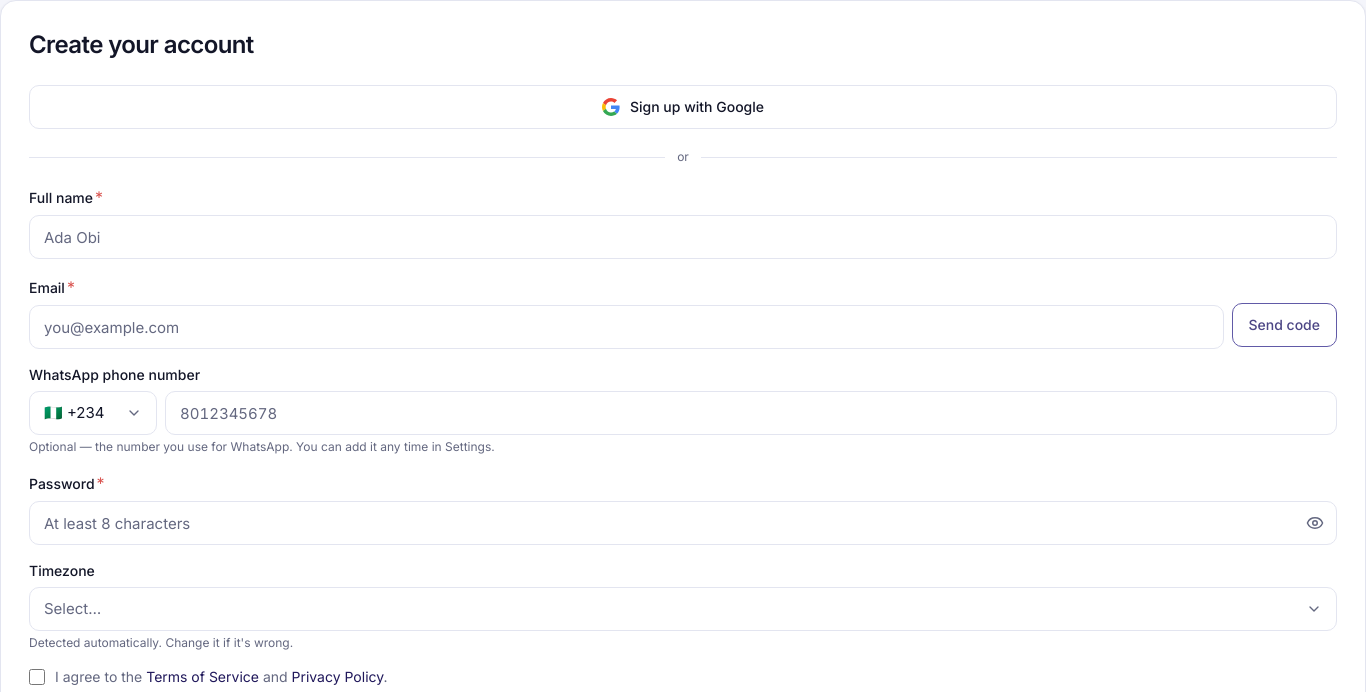
Scenario: Register › a successful verify clears the earlier wrong-code error
The width and height of the screenshot is (1366, 692).
Type "qa@example.com" into the field labelled "Email" at {"x": 626, "y": 327}, box [29,305,1224,349]
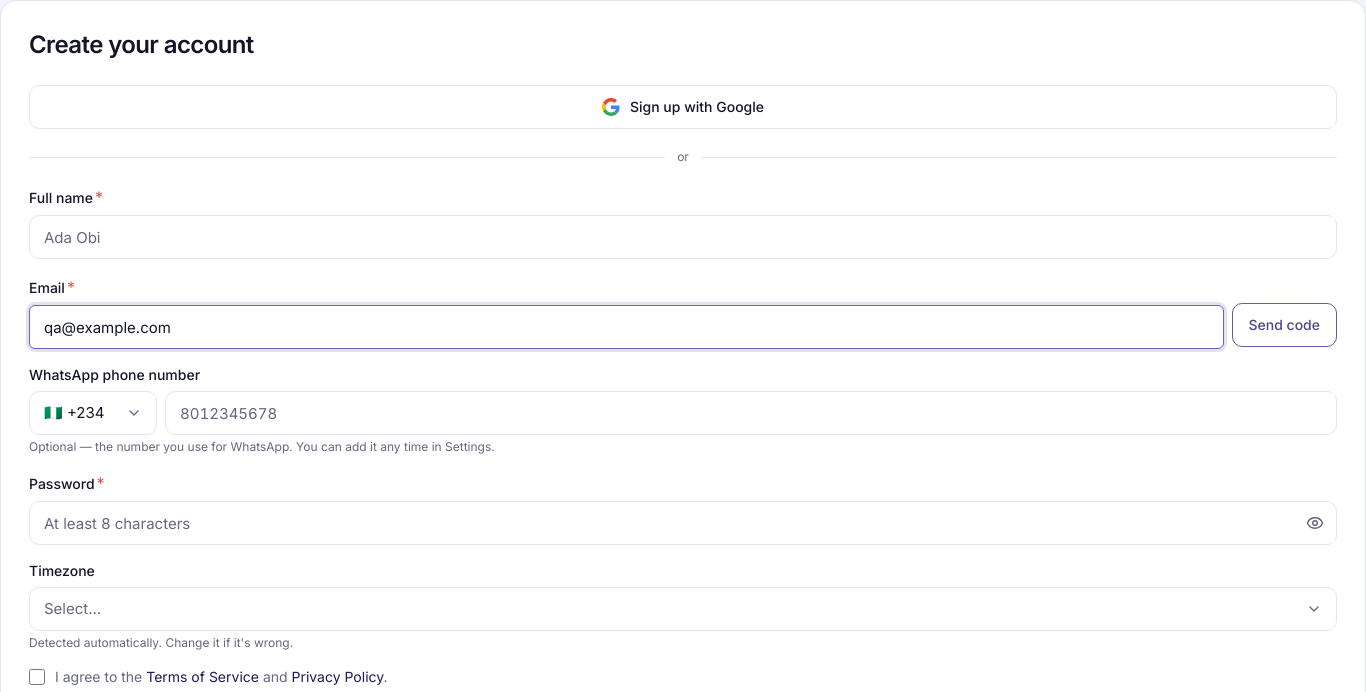
Click the button "Send code" at {"x": 1284, "y": 325}, box [1232,303,1337,347]
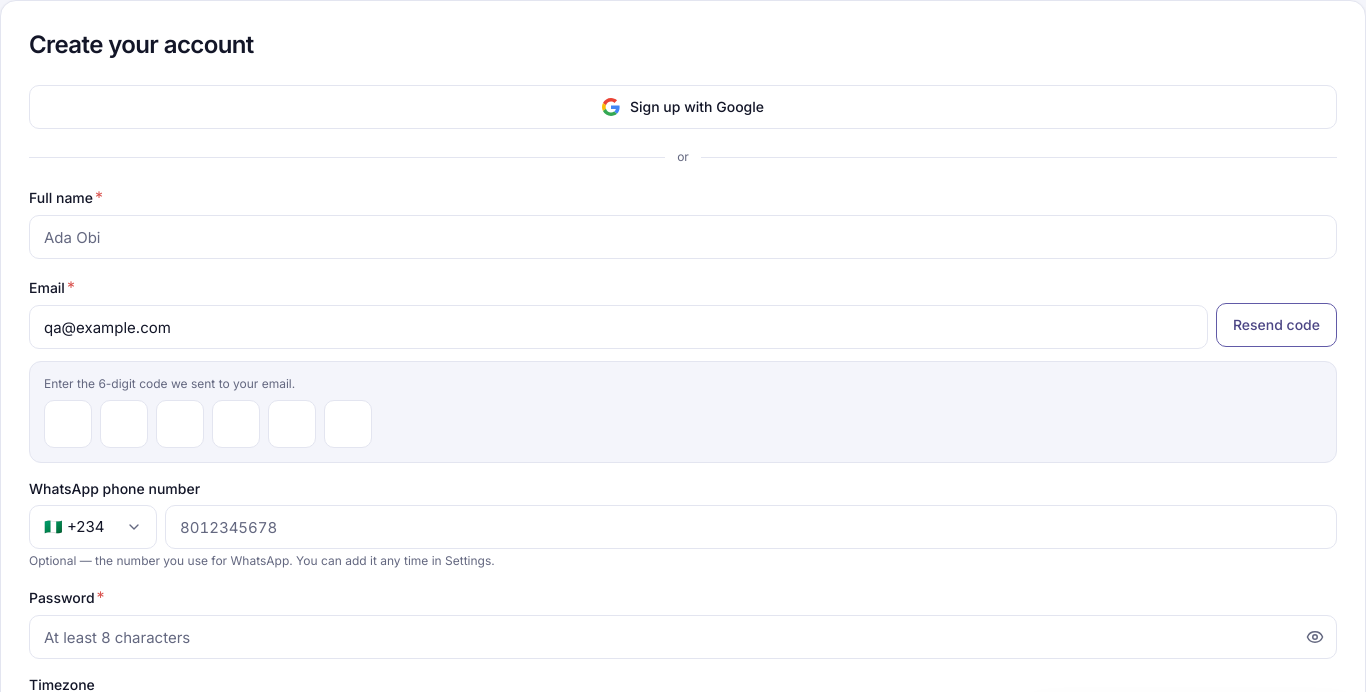
Click the field named "Email code digit 1" at {"x": 68, "y": 424}, box [44,400,92,448]
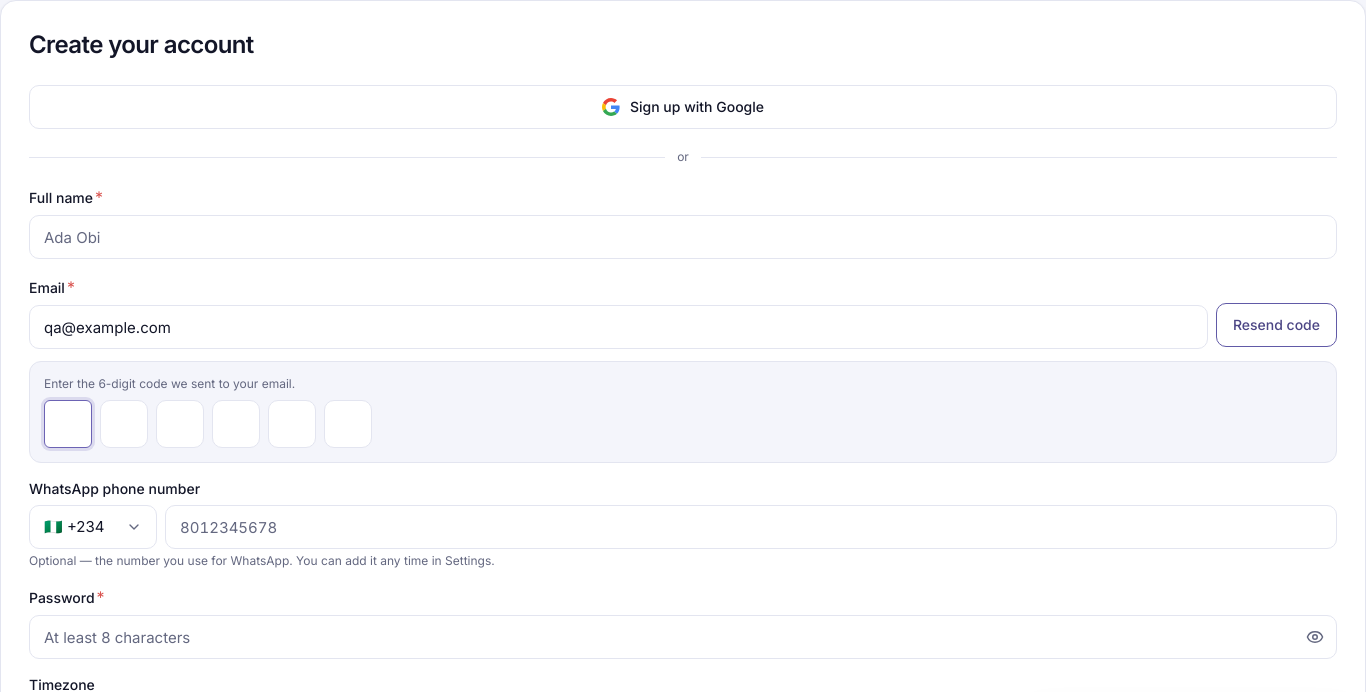
Type keys "111111"
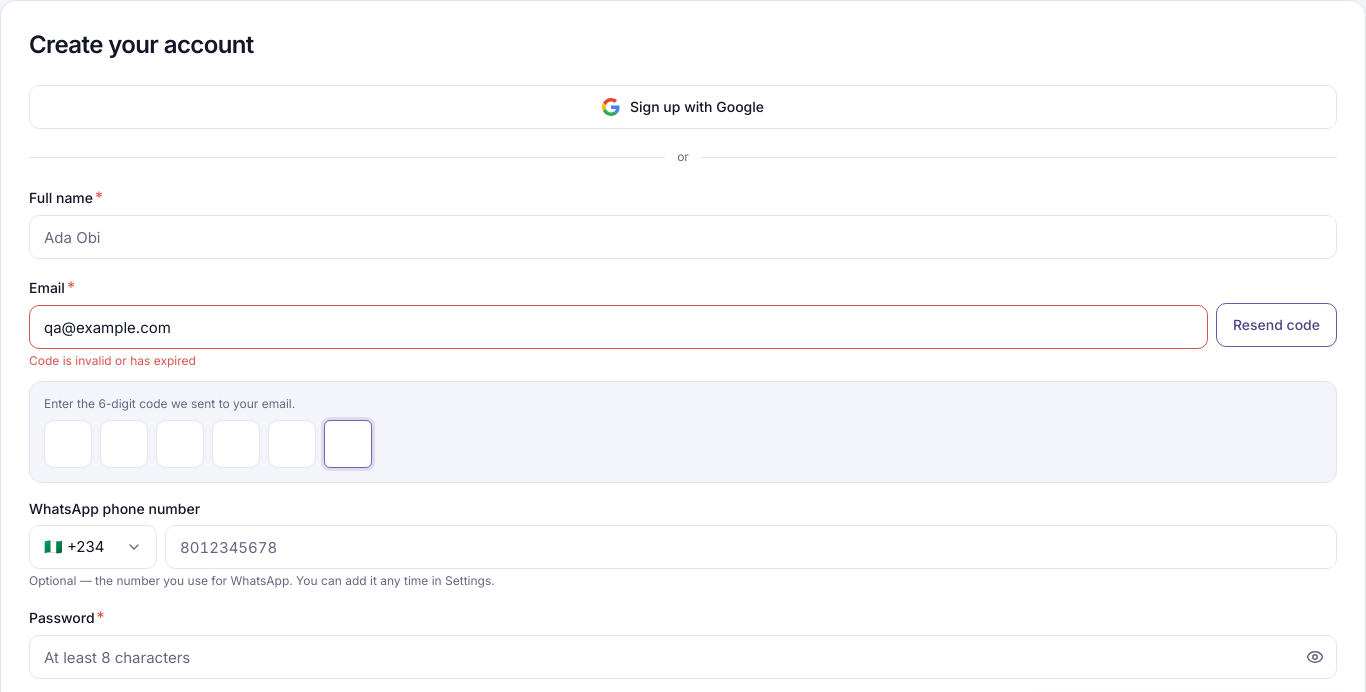
Expected: the text "Code is invalid or has expired" is shown, [29,353,196,368]
Click the field named "Email code digit 1" at {"x": 68, "y": 444}, box [44,420,92,468]
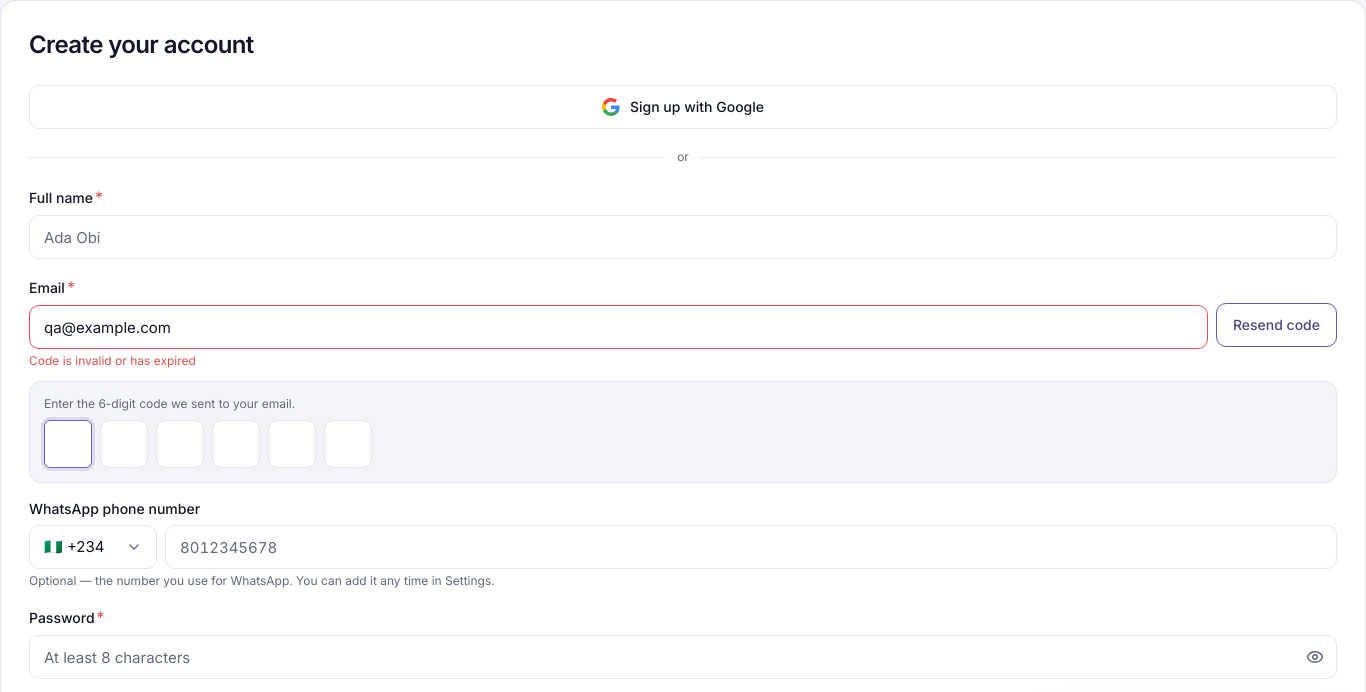
Type keys "482913"
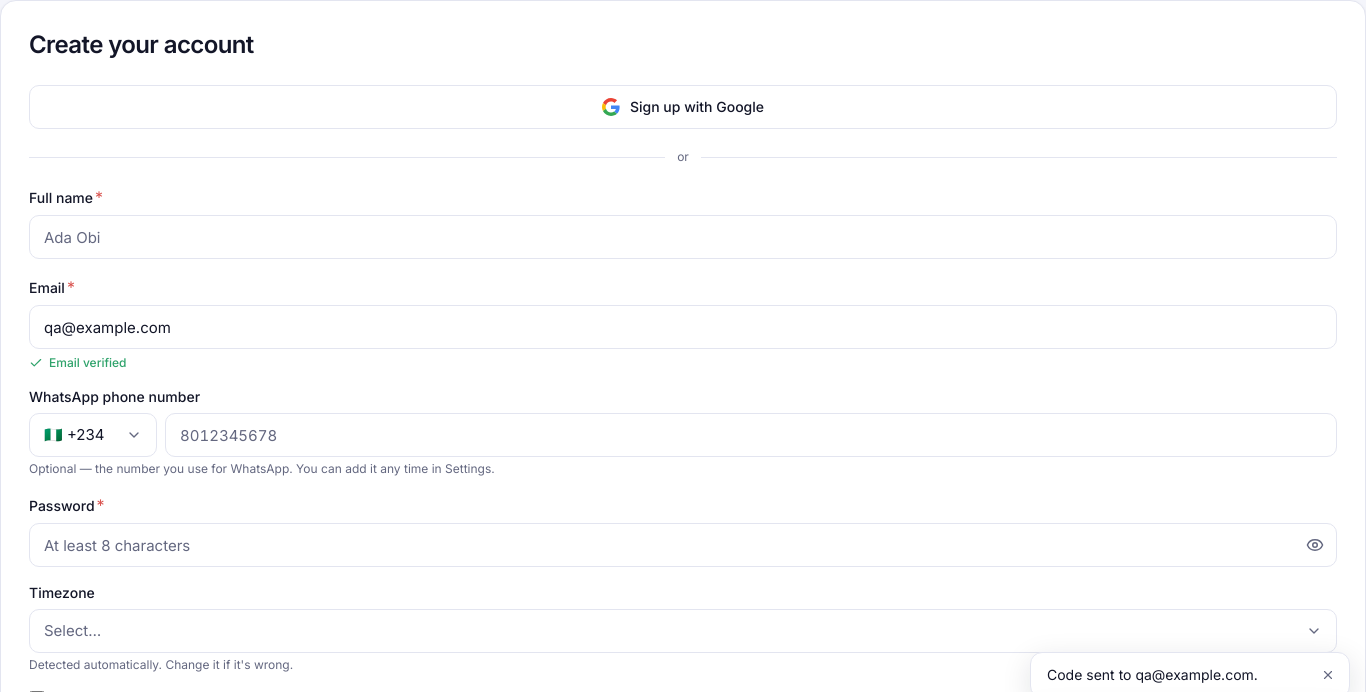
Expected: the text "Email verified" is shown, [29,355,126,370]
Expected: the text "Code is invalid or has expired" is gone
